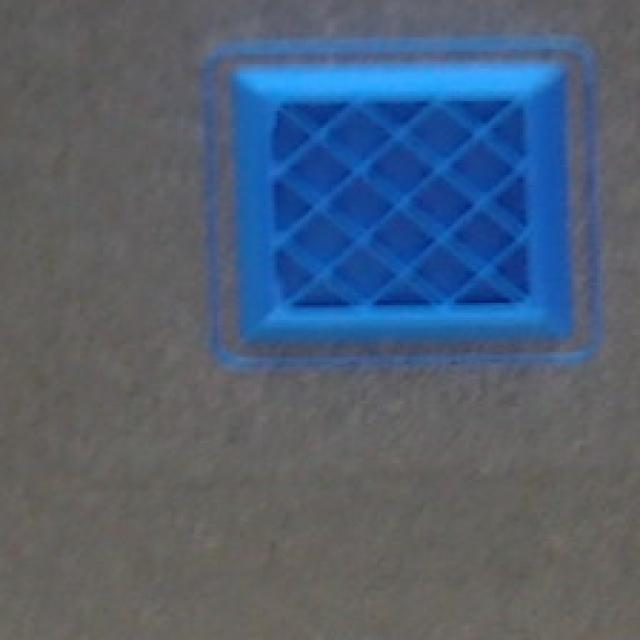noMistake: (206, 39, 600, 369)
